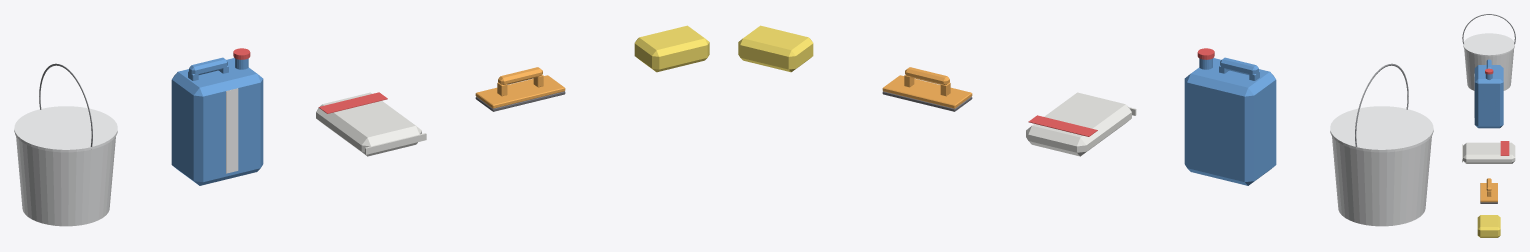
File: grout_kit.glb
The picture shows the model from 3 angles, left to right: view 1: azimuth 30°, elevation 25°; view 2: azimuth 150°, elevation 25°; view 3: azimuth 270°, elevation 25°; orthographic projection. The views are drawn at different scales.
Visible parts, largest first — view 1: WC_Body, GB_Wall, GB_Rim, Bag_Body, Sponge_Body, Float_Base, WC_Scale, Bag_Stripe, Bag_Seal, Float_Handle, WC_Handle; view 2: WC_Body, GB_Wall, GB_Rim, Bag_Body, Sponge_Body, Float_Base, Bag_Stripe, Float_Handle, WC_Handle; view 3: WC_Body, Bag_Body, GB_Rim, GB_Wall, Sponge_Body, Float_Base, Bag_Stripe, GB_Handle, Float_Handle, WC_Handle, WC_Cap, WC_Scale (+1 smaller).
Boxes of the visible parts, x1,y1,x2,y2 form: WC_Body: (171,58,263,185); GB_Wall: (16,136,115,226); GB_Rim: (14,106,117,152); Bag_Body: (316,92,421,156); Sponge_Body: (634,25,709,72); Float_Base: (475,75,565,108); WC_Scale: (226,88,238,173); Bag_Stripe: (318,92,387,113); Bag_Seal: (365,133,426,154); Float_Handle: (498,67,542,84); WC_Handle: (189,57,227,74); WC_Body: (1184,58,1276,185); GB_Wall: (1332,136,1431,226); GB_Rim: (1330,106,1433,152); Bag_Body: (1026,92,1131,156); Sponge_Body: (738,25,813,72); Float_Base: (882,75,972,108); Bag_Stripe: (1028,115,1097,136); Float_Handle: (905,67,949,84); WC_Handle: (1220,57,1258,74); WC_Body: (1474,65,1503,128); Bag_Body: (1463,142,1515,163); GB_Rim: (1463,33,1514,56); GB_Wall: (1464,49,1513,90); Sponge_Body: (1477,215,1500,237); Float_Base: (1480,183,1497,202); Bag_Stripe: (1500,141,1509,155); GB_Handle: (1462,14,1515,44); Float_Handle: (1486,178,1491,190); WC_Handle: (1486,59,1491,68); WC_Cap: (1485,68,1493,74); WC_Scale: (1474,74,1474,117).
Bounding box in the file's own units: 2.24 × 0.443 × 0.308.
